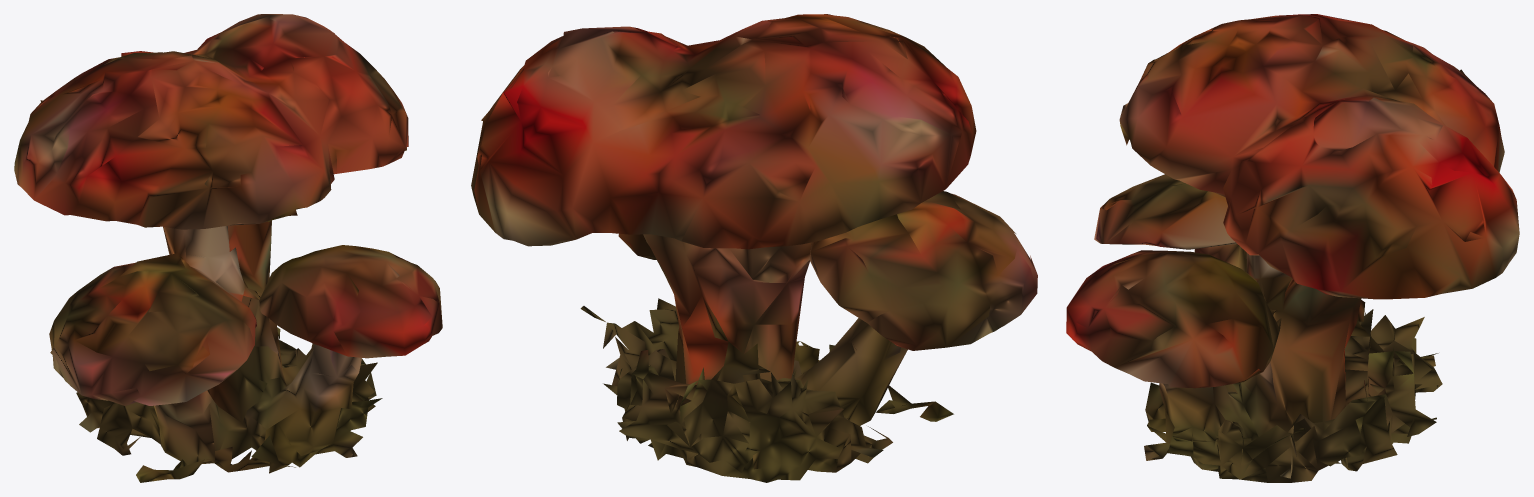
File: mushrooms-red.glb
3 renders of one model, left to right at view 1: azimuth 30°, elevation 25°; view 2: azimuth 150°, elevation 25°; view 3: azimuth 270°, elevation 25°, orthographic. The views are drawn at different scales.
Parts seen in each view (by area): view 1: Mesh_0; view 2: Mesh_0; view 3: Mesh_0.
Boxes of the visible parts, <box> form: Mesh_0: <box>14,14,442,482</box>; Mesh_0: <box>471,14,1037,482</box>; Mesh_0: <box>1066,14,1519,482</box>.
Bounding box in the file's own units: 0.5671 × 0.5 × 0.5378.
